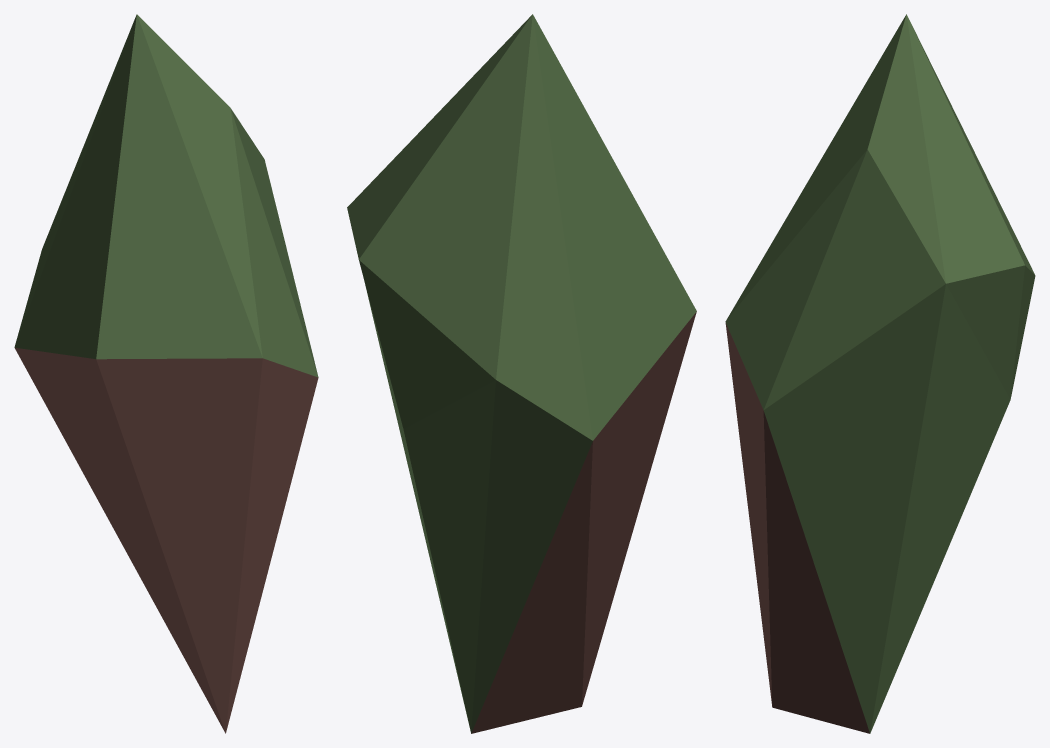
The model's file is PineTree_4.lod4.glb.
The picture shows the model from 3 angles, left to right: view 1: azimuth 30°, elevation 25°; view 2: azimuth 150°, elevation 25°; view 3: azimuth 270°, elevation 25°; orthographic projection. The views are drawn at different scales.
Parts seen in each view (by area): view 1: PineTree_4; view 2: PineTree_4; view 3: PineTree_4.
Boxes of the visible parts, bbox=[...] form: PineTree_4: bbox=[14, 14, 318, 733]; PineTree_4: bbox=[347, 14, 696, 733]; PineTree_4: bbox=[725, 14, 1035, 733].
Bounding box in the file's own units: 1.26 × 3.39 × 1.39.
